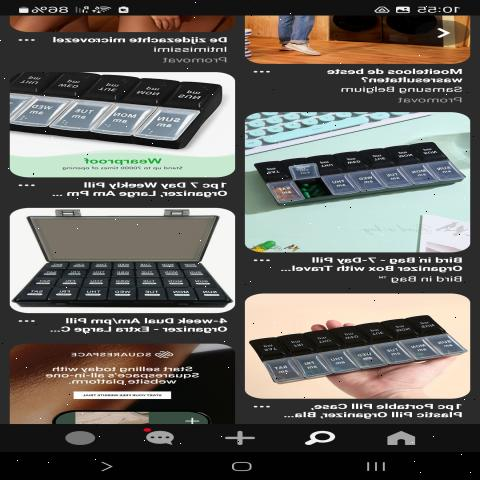PillBox: (234, 128, 466, 218), (3, 68, 218, 162), (238, 309, 467, 393), (24, 252, 222, 316)
